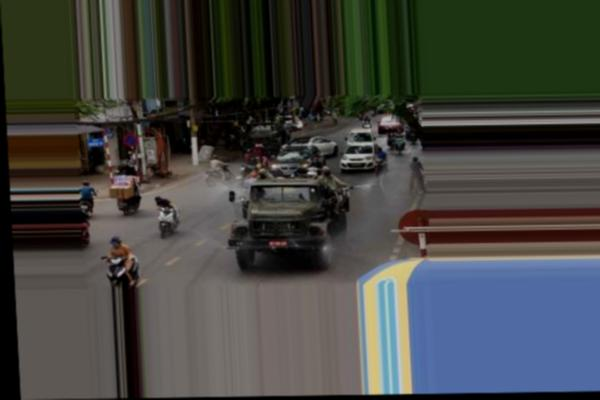License_Plate: (267, 240, 290, 248)
